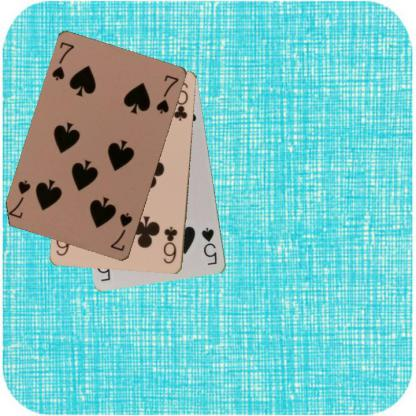5s: (199, 225, 218, 267)
6c: (161, 224, 179, 265)
7s: (49, 39, 76, 82), (108, 210, 134, 253)
